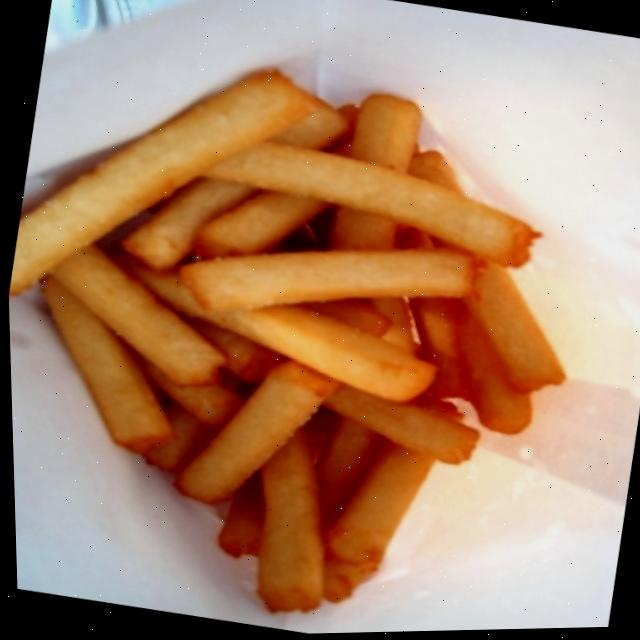炸货点心: (0, 5, 624, 640)
